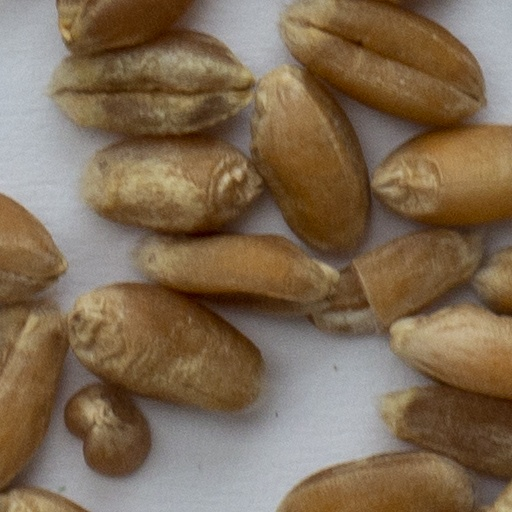Wheat-grain-damaged-poly: (64, 387, 152, 477)
